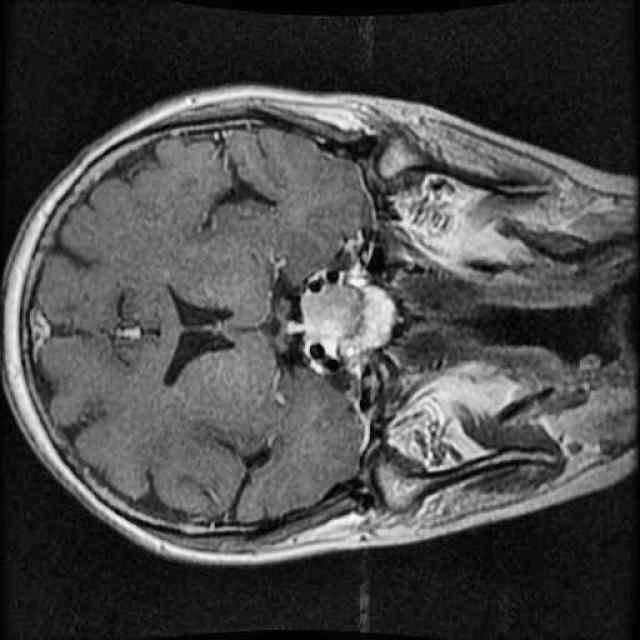Tumor: (292, 276, 370, 349)
